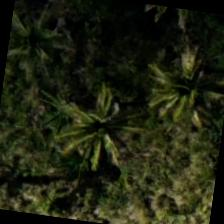Kelapa_Sawit: (44, 78, 146, 180), (136, 38, 223, 141), (3, 0, 83, 93)
